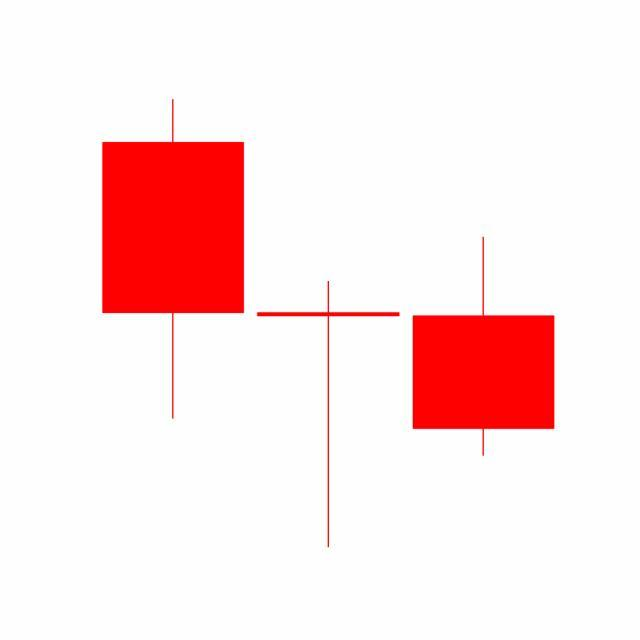Spinning Top: (250, 279, 407, 551)
